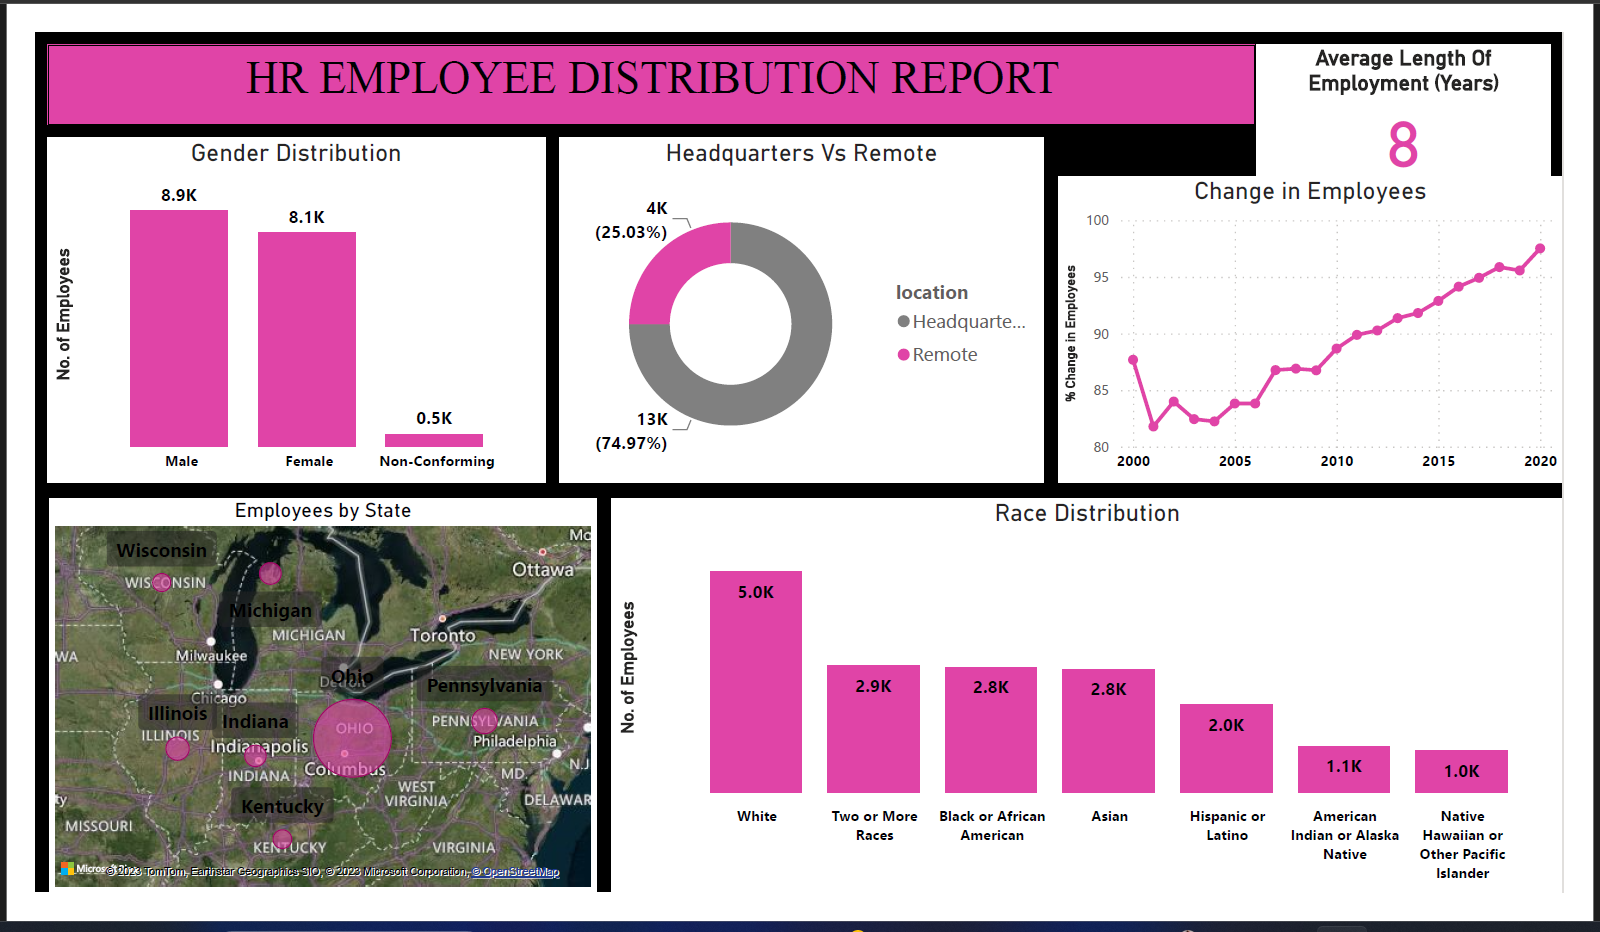

The page's visual inventory and layout, read from the dashboard file:
{"tool":"powerbi","page":{"name":"Page 1","canvas":[1280,720],"ordinal":0},"visuals":[{"type":"textbox","box":[9.8,9.8,1012.2,67.2],"z":0},{"type":"card","title":"Average Length Of Employment (Years)","fields":{"Values":["Sum(Avg_len_employment.Avg_length_employment)"]},"box":[1022.9,10.1,246.7,109.6],"z":1000},{"type":"columnChart","title":"Gender Distribution","fields":{"Category":["gender.gender"],"Y":["Sum(gender.Count)"]},"box":[10.1,88,417,288.6],"z":2000},{"type":"donutChart","title":"Headquarters Vs Remote","fields":{"Category":["location.location"],"Y":["Sum(location.Count)"]},"box":[438.6,88,406.9,288.6],"z":3000},{"type":"lineChart","title":"Change in Employees","fields":{"Y":["Sum(netchange hire_termin.net_change_percent)"],"Category":["netchange hire_termin.year"]},"box":[857,119.7,422.7,256.8],"z":4000},{"type":"map","title":"Employees by State","fields":{"Category":["location_state.location_state"],"Size":["Sum(location_state.count)"]},"box":[11.5,389.5,458.8,330.4],"z":5000},{"type":"clusteredColumnChart","title":"Race Distribution","fields":{"Category":["race.race"],"Y":["Sum(race.Count)"]},"box":[483.3,389.5,796.4,330.4],"z":6000}]}

Visuals, with their boxes on the page's 1280x720 design canvas (x1, y1, x2, y2). These are canvas units, not pixel positions in the 1600x932 screenshot, which may show the page scaled, cropped or inside an application window:
textbox: 10/10/1022/77
"Average Length Of Employment (Years)" card: 1023/10/1270/120
"Gender Distribution" columnChart: 10/88/427/377
"Headquarters Vs Remote" donutChart: 439/88/846/377
"Change in Employees" lineChart: 857/120/1280/376
"Employees by State" map: 12/390/470/720
"Race Distribution" clusteredColumnChart: 483/390/1280/720
